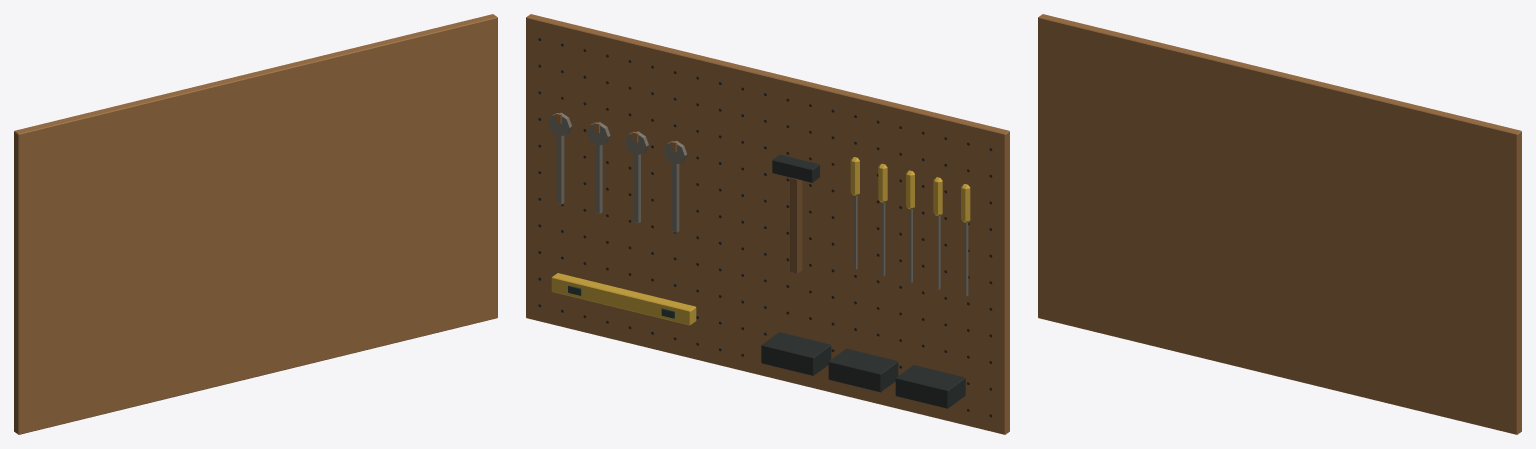
Rendered from pegboard.glb.
3 views of the same model, side by side, from view 1: azimuth 30°, elevation 25°; view 2: azimuth 150°, elevation 25°; view 3: azimuth 330°, elevation 25° (orthographic).
Visible parts, largest first — view 1: body; view 2: body; view 3: body.
Boxes of the visible parts, box(x1,y1,x2,y2) form: body: box(14, 14, 497, 434); body: box(526, 14, 1009, 434); body: box(1038, 14, 1521, 434).
Size of the model in its own units: 2 by 1.2 by 0.1725.
